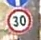limite 30: (5, 7, 33, 35)
